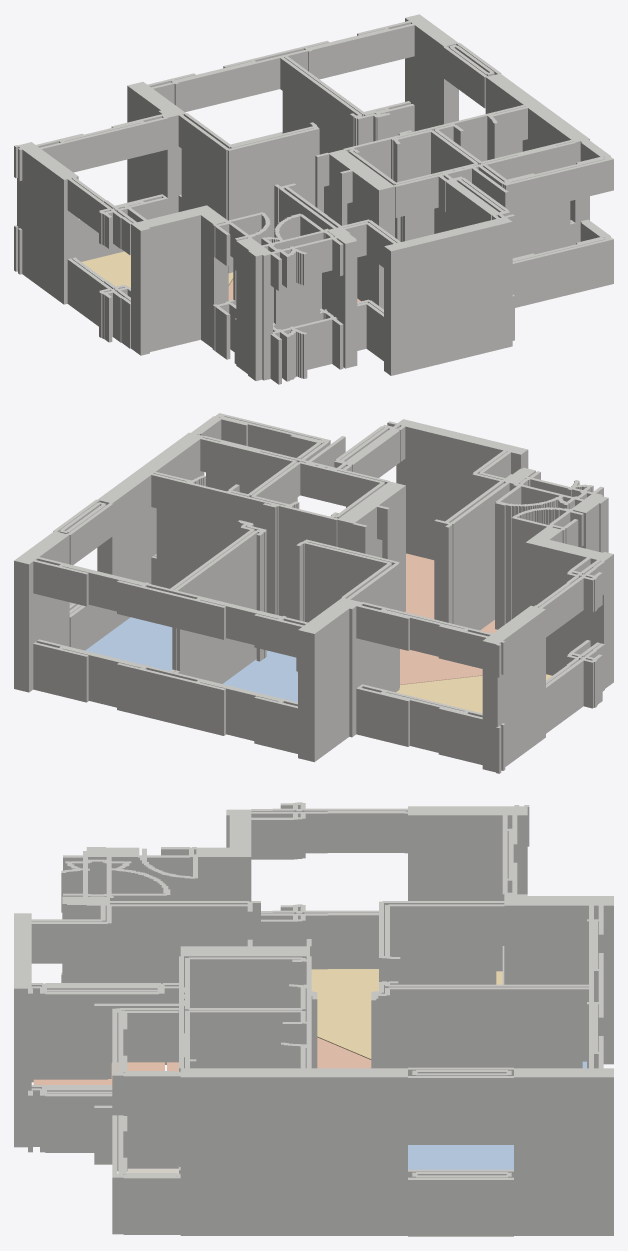
3 renders of one model, top to bottom at view 1: azimuth 30°, elevation 25°; view 2: azimuth 150°, elevation 25°; view 3: azimuth 270°, elevation 25°, orthographic. The views are drawn at different scales.
Parts seen in each view (by area): view 1: walls, room:living:1; view 2: walls, room:bedroom:0, room:bedroom:2, room:living:1, room:kitchen:3, room:kitchen:6; view 3: walls, room:living:1, room:bedroom:0, room:kitchen:3, room:kitchen:6.
Part boxes in pixels (box(x1,y1,x2,y2)): walls: box(14, 14, 613, 384); room:living:1: box(81, 251, 233, 287); walls: box(14, 413, 613, 773); room:bedroom:0: box(85, 617, 172, 671); room:bedroom:2: box(223, 650, 297, 702); room:living:1: box(396, 674, 552, 713); room:kitchen:3: box(400, 620, 497, 684); room:kitchen:6: box(405, 553, 434, 619); walls: box(14, 802, 613, 1236); room:living:1: box(311, 969, 502, 1059); room:bedroom:0: box(408, 1145, 513, 1169); room:kitchen:3: box(167, 1037, 371, 1071); room:kitchen:6: box(33, 1062, 164, 1085).
Size of the model in its own units: 10.43 by 2.8 by 9.6.
